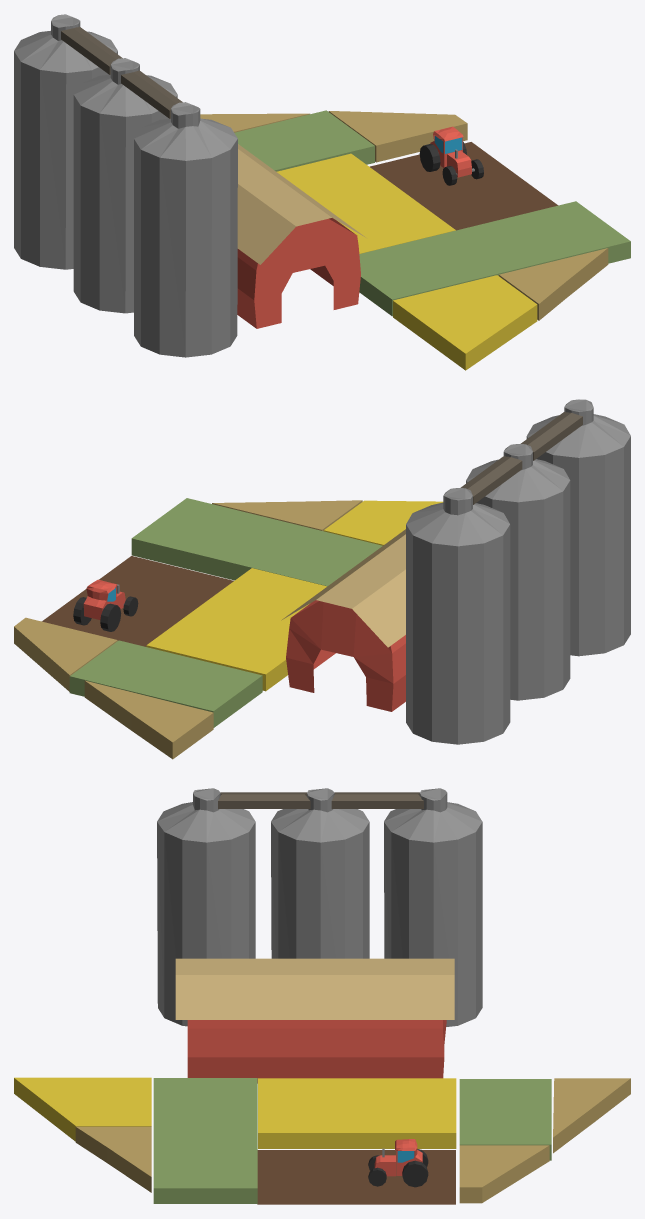
Rendered from modelOld.glb.
The picture shows the model from 3 angles, top to bottom: view 1: azimuth 30°, elevation 25°; view 2: azimuth 150°, elevation 25°; view 3: azimuth 270°, elevation 25°; orthographic projection. The views are drawn at different scales.
Parts seen in each view (by area): view 1: Cylinder.007, Cylinder.006, Cylinder, Cube.002, Cube.006, Cube, Cube.003, Plane, Cube.004, Cube.005, Cube.008, Cube.007 (+4 smaller); view 2: Cylinder, Cylinder.007, Cylinder.006, Cube.002, Cube, Cube.005, Cube.003, Plane, Cube.004, Cube.009, Cube.008, Cube.006 (+4 smaller); view 3: Cube.004, Cylinder, Cylinder.007, Cylinder.006, Cube.003, Cube, Cube.002, Plane, Cube.006, Cube.005, Cube.008, Cube.009 (+3 smaller).
Boxes of the visible parts, box(x1,y1,x2,y2) form: Cylinder.007: box(134, 102, 237, 357); Cylinder.006: box(73, 58, 177, 313); Cylinder: box(14, 14, 117, 269); Cube.002: box(359, 201, 630, 316); Cube.006: box(393, 275, 537, 370); Cube: box(276, 153, 455, 253); Cube.003: box(237, 218, 360, 328); Plane: box(369, 142, 558, 230); Cube.004: box(237, 144, 365, 264); Cube.005: box(234, 110, 374, 171); Cube.008: box(328, 111, 467, 162); Cube.007: box(499, 248, 608, 320); Cylinder: box(406, 488, 510, 744); Cylinder.007: box(526, 399, 630, 656); Cylinder.006: box(466, 444, 570, 700); Cube.002: box(131, 498, 382, 586); Cube: box(146, 568, 326, 691); Cube.005: box(69, 640, 262, 727); Cube.003: box(286, 600, 405, 711); Plane: box(42, 556, 233, 646); Cube.004: box(281, 529, 405, 647); Cube.009: box(84, 680, 213, 759); Cube.008: box(14, 617, 117, 691); Cube.006: box(323, 500, 443, 545); Cube.004: box(175, 958, 454, 1019); Cylinder: box(384, 788, 482, 1026); Cylinder.007: box(157, 788, 255, 1026); Cylinder.006: box(271, 788, 369, 958); Cube.003: box(187, 1020, 446, 1083); Cube: box(258, 1078, 456, 1148); Cube.002: box(153, 1078, 257, 1203); Plane: box(257, 1150, 455, 1204); Cube.006: box(14, 1077, 151, 1141); Cube.005: box(459, 1079, 551, 1160); Cube.008: box(459, 1145, 549, 1203); Cube.009: box(553, 1078, 630, 1153).
Size of the model in its own units: 14.57 by 6.98 by 17.81.
